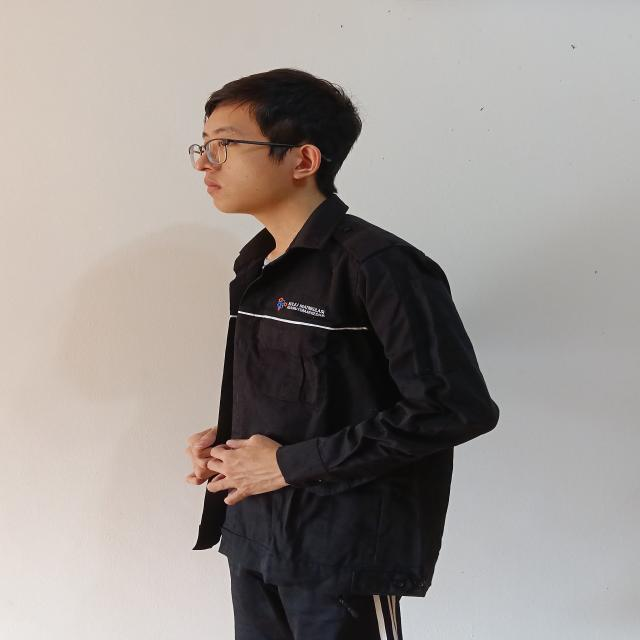person_with_labcoat: (186, 69, 499, 640)
